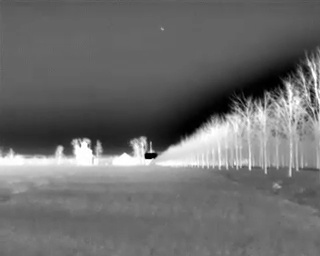BIRD: (159, 25, 166, 33)
